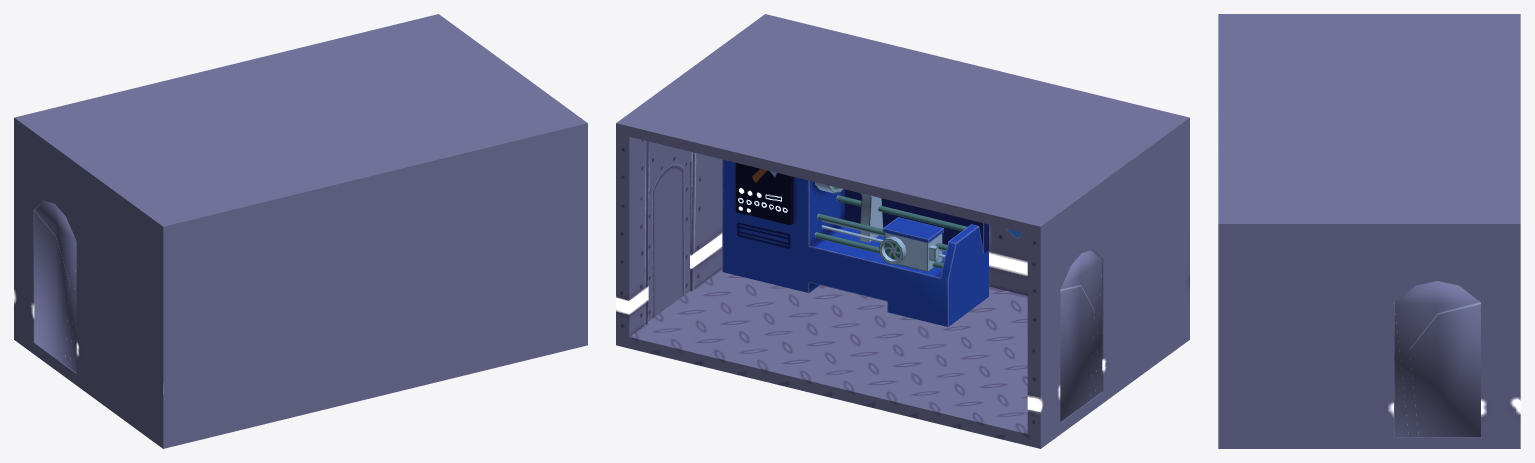
Rendered from complex_building.fbx.
3 renders of one model, left to right at view 1: azimuth 30°, elevation 25°; view 2: azimuth 150°, elevation 25°; view 3: azimuth 270°, elevation 25°, orthographic.
Parts seen in each view (by area): view 1: base, base.002; view 2: base, Cube, base.002, base.001, Cube.001; view 3: base, base.001.
Part boxes in pixels (<box>): base: <box>14,14,587,448</box>; base.002: <box>34,201,76,372</box>; base: <box>616,14,1189,448</box>; Cube: <box>722,159,988,326</box>; base.002: <box>1060,250,1102,421</box>; base.001: <box>648,154,689,320</box>; Cube.001: <box>878,217,943,271</box>; base: <box>1218,14,1520,448</box>; base.001: <box>1394,281,1480,436</box>.
Size of the model in its own units: 800 by 400 by 487.
